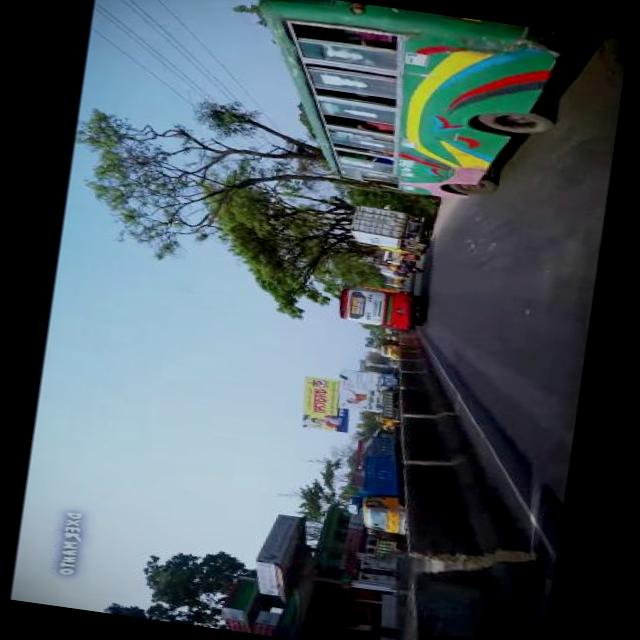bus: (230, 0, 565, 210), (334, 281, 418, 329)
motorcycle: (406, 264, 419, 270)
truck: (356, 432, 416, 533), (346, 202, 428, 255), (376, 386, 397, 424), (376, 335, 398, 357)
